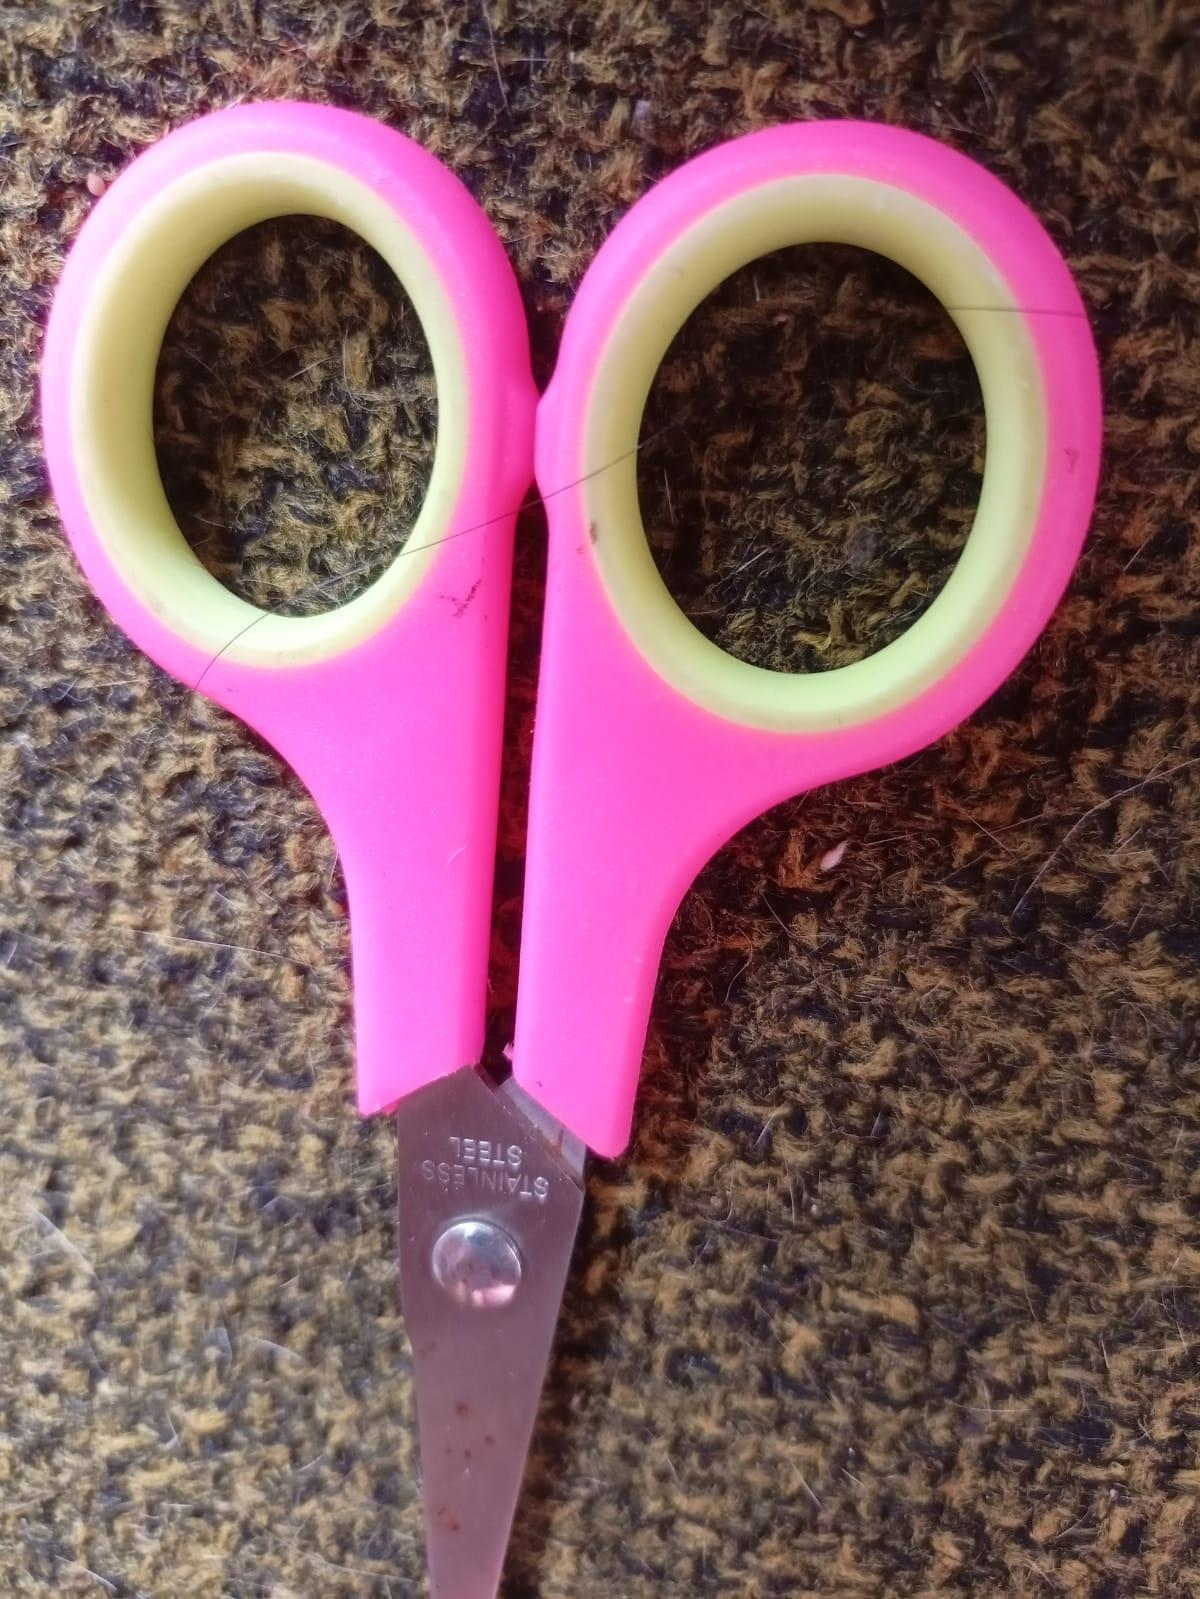scissors: (39, 102, 1104, 1598)
